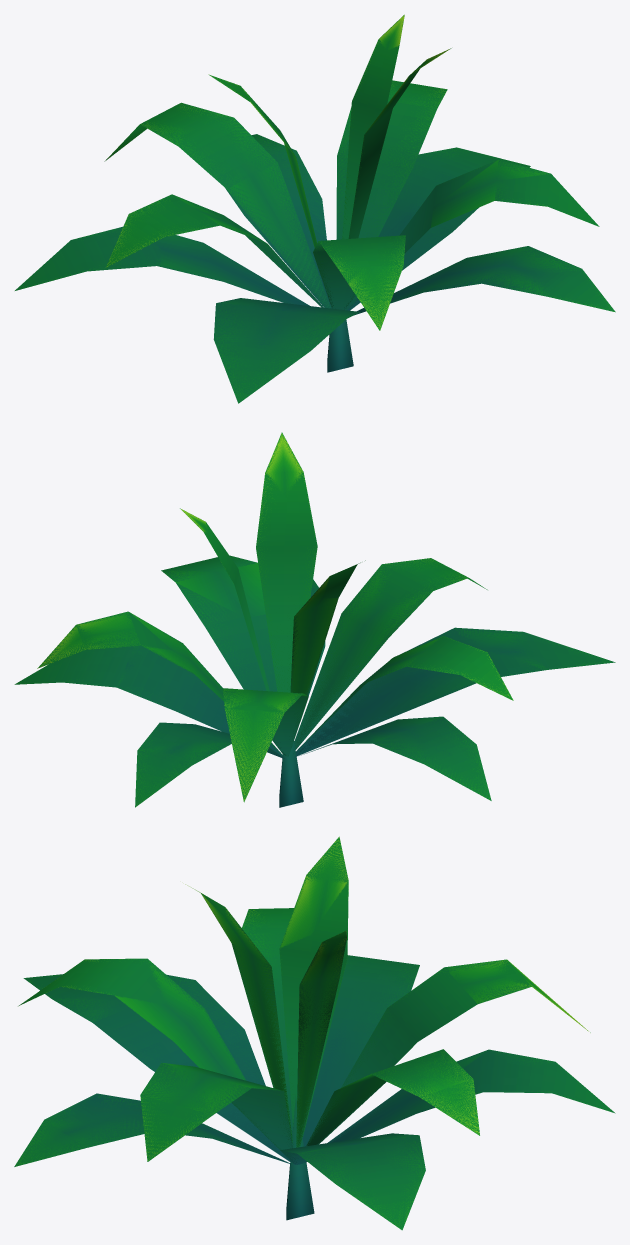
File: Bush_4A.fbx
3 renders of one model, top to bottom at view 1: azimuth 30°, elevation 25°; view 2: azimuth 150°, elevation 25°; view 3: azimuth 270°, elevation 25°, orthographic. The views are drawn at different scales.
Parts seen in each view (by area): view 1: Bush_4A; view 2: Bush_4A; view 3: Bush_4A.
Boxes of the visible parts, box(x1,y1,x2,y2) form: Bush_4A: box(15, 14, 615, 403); Bush_4A: box(14, 432, 615, 807); Bush_4A: box(14, 836, 615, 1230).
Size of the model in its own units: 1.62 by 1.03 by 1.54.
